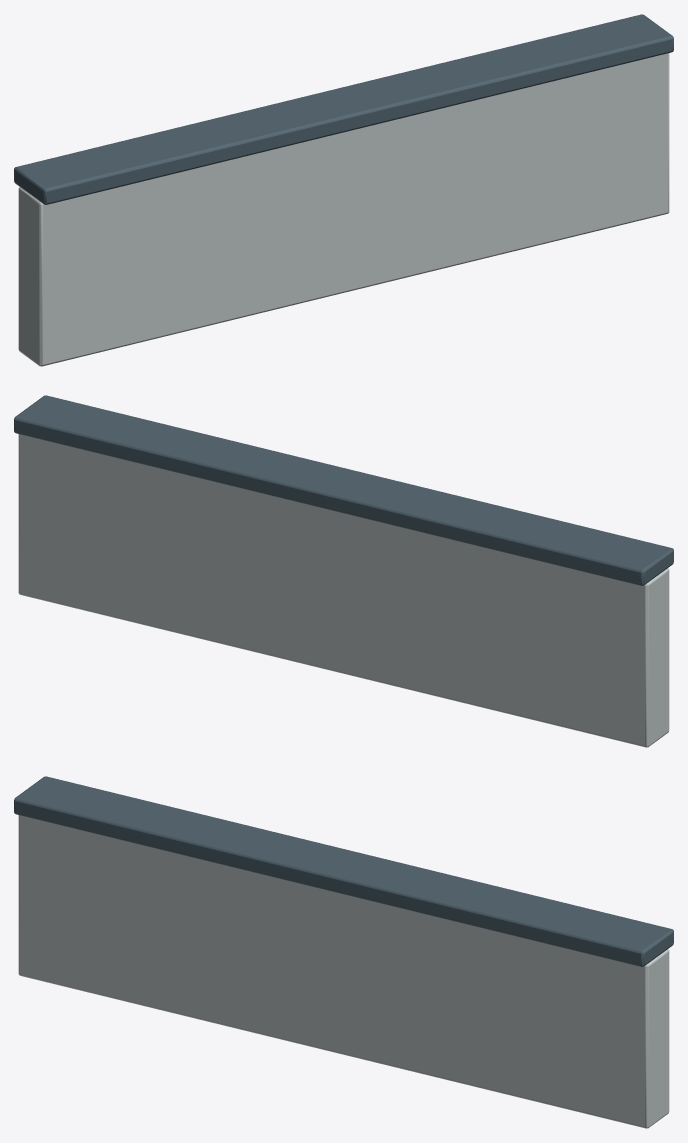
File: MOD_Parapet_01.glb
The picture shows the model from 3 angles, top to bottom: view 1: azimuth 30°, elevation 25°; view 2: azimuth 150°, elevation 25°; view 3: azimuth 330°, elevation 25°; orthographic projection.
Visible parts, largest first — view 1: MOD_Parapet_01; view 2: MOD_Parapet_01; view 3: MOD_Parapet_01.
Part boxes in pixels (x1,y1,x2,y2): MOD_Parapet_01: (14, 14, 673, 366); MOD_Parapet_01: (14, 395, 673, 747); MOD_Parapet_01: (14, 776, 673, 1128).
Bounding box in the file's own units: 4 × 1.1 × 0.35.
